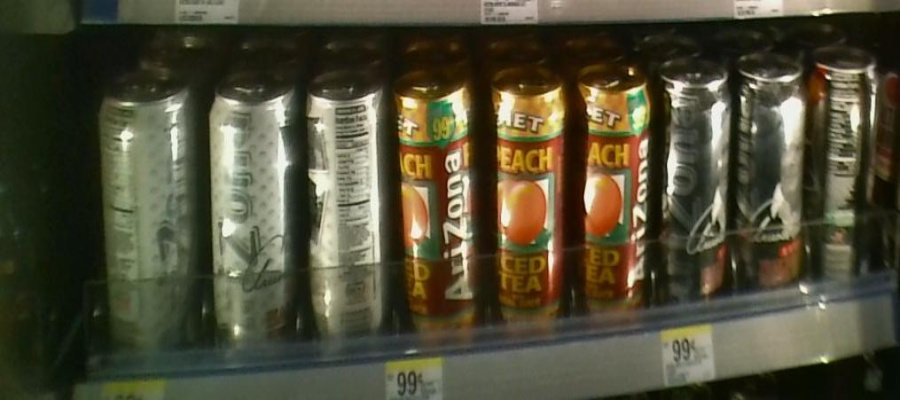bottle: (98, 56, 201, 359), (299, 49, 390, 360), (206, 65, 294, 364), (482, 52, 568, 353), (393, 64, 478, 354), (576, 54, 655, 327), (659, 47, 737, 322), (810, 36, 881, 296), (737, 42, 805, 305)
